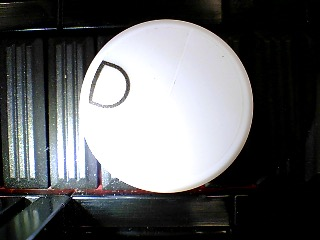MIPO1: (78, 19, 254, 194)
